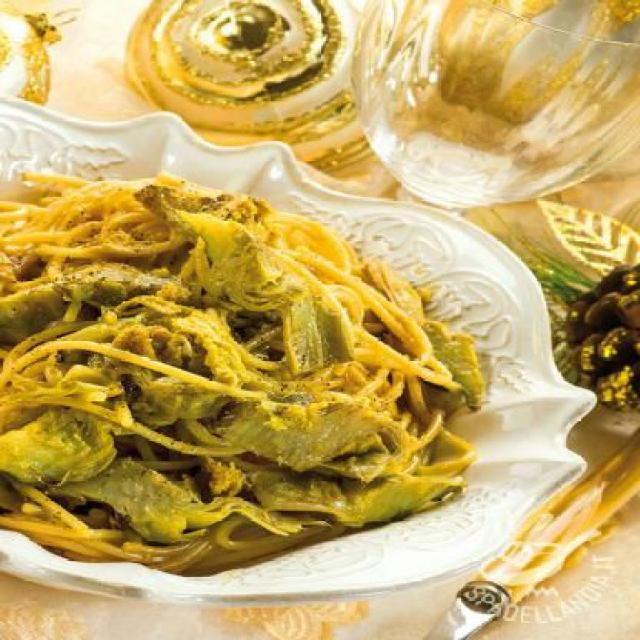Pasta with carbonara sauce: (7, 160, 540, 623)
